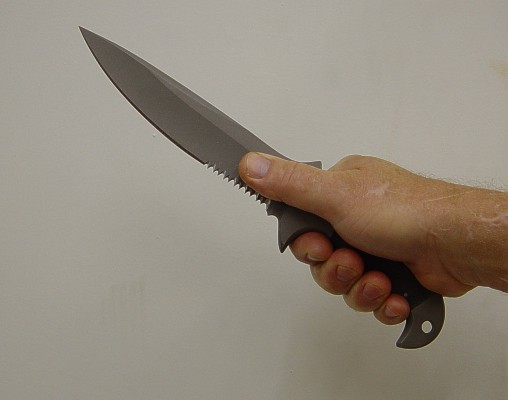knife: (73, 19, 406, 323)
